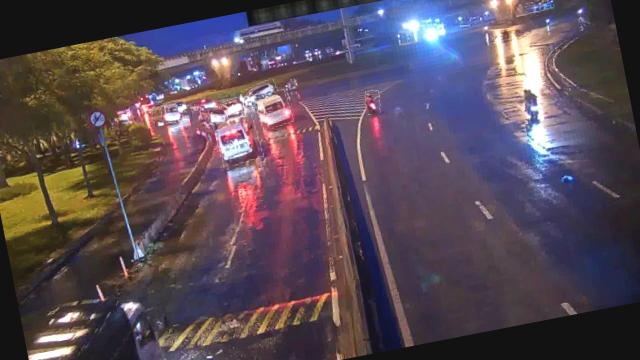Bike: (522, 86, 543, 122), (364, 88, 382, 114)
Bus: (213, 115, 263, 167), (254, 89, 293, 130), (160, 102, 185, 124)
Car: (240, 78, 280, 105), (198, 102, 230, 128), (220, 96, 245, 116)
